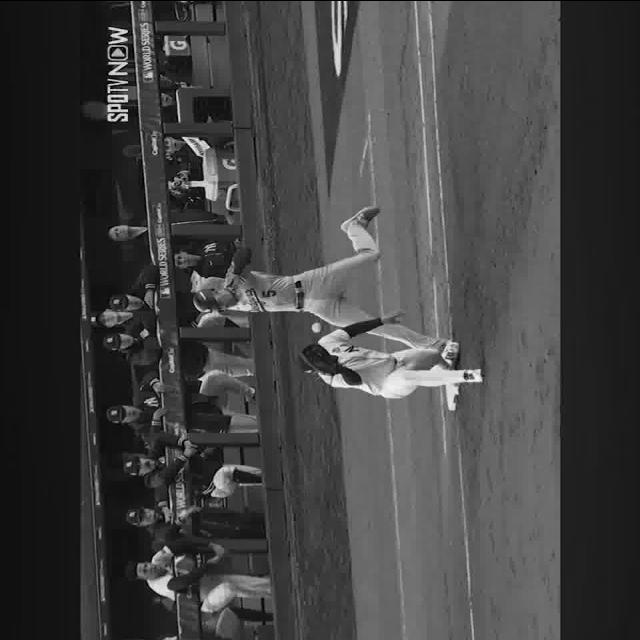base: (445, 382, 459, 410)
baseball: (311, 322, 321, 331)
baseball_glove: (298, 342, 338, 374)
shoe: (342, 205, 380, 231), (440, 340, 460, 366), (464, 368, 482, 382)
